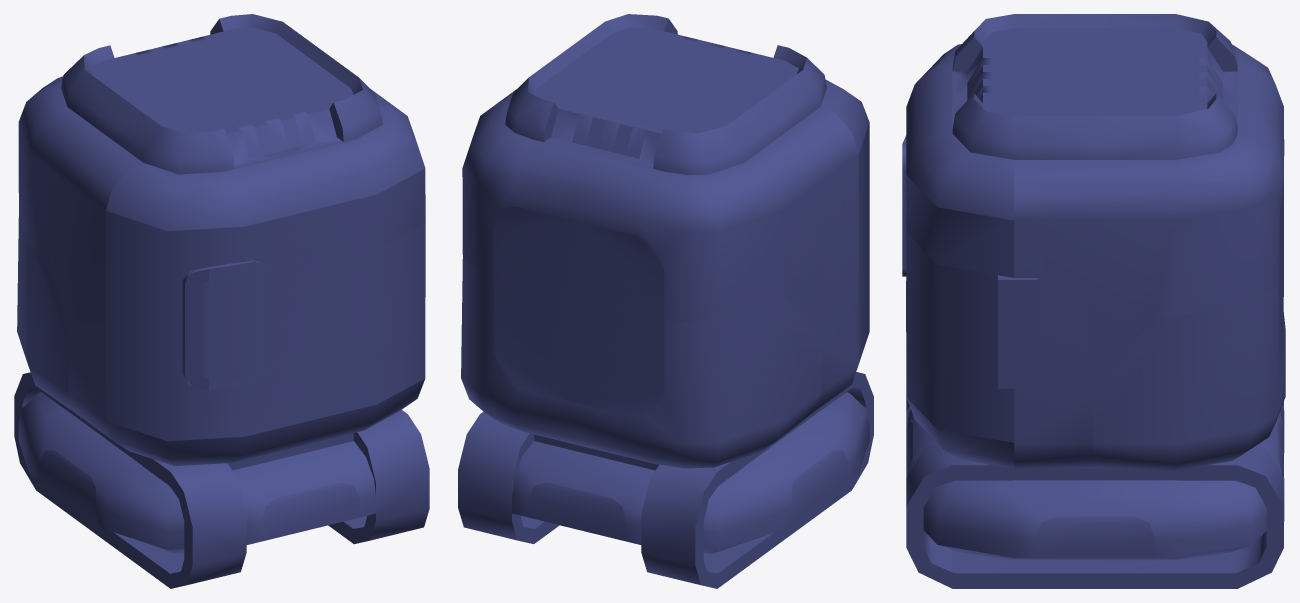
File: obj_interactive_freezer_lod1.fbx
3 renders of one model, left to right at view 1: azimuth 30°, elevation 25°; view 2: azimuth 150°, elevation 25°; view 3: azimuth 270°, elevation 25°, orthographic. The views are drawn at different scales.
Visible parts, largest first — view 1: part5_lp.004; view 2: part5_lp.004; view 3: part5_lp.004.
Part boxes in pixels (left/top/right/bottom): part5_lp.004: left=14, top=14, right=429, bottom=588; part5_lp.004: left=458, top=14, right=873, bottom=588; part5_lp.004: left=902, top=14, right=1285, bottom=588.
Size of the model in its own units: 3.1 by 4.13 by 3.1.
